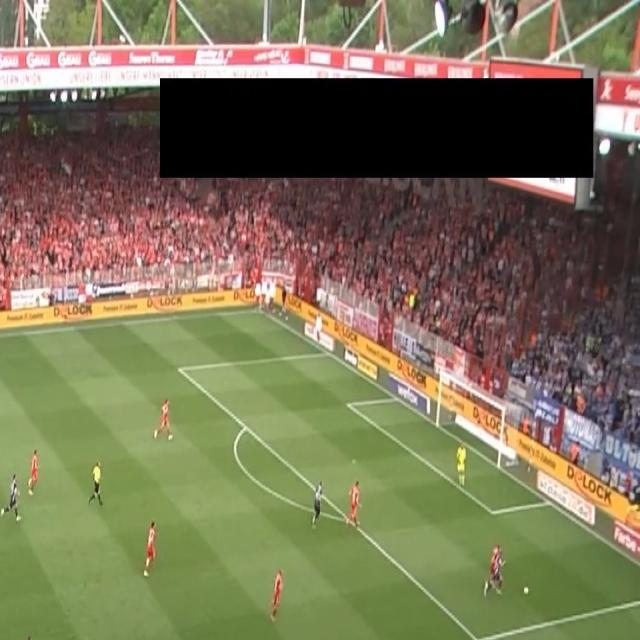ball: (523, 586, 529, 597)
